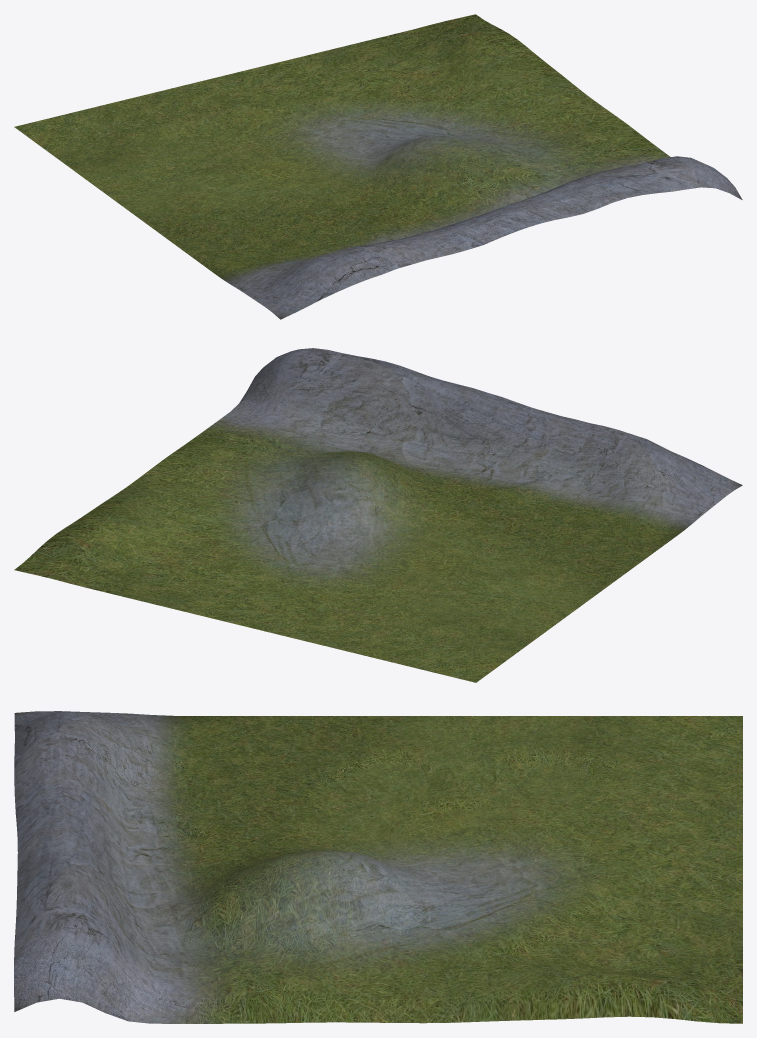
File: campo.dae
3 renders of one model, top to bottom at view 1: azimuth 30°, elevation 25°; view 2: azimuth 150°, elevation 25°; view 3: azimuth 270°, elevation 25°, orthographic. The views are drawn at different scales.
Visible parts, largest first — view 1: Plane; view 2: Plane; view 3: Plane.
Boxes of the visible parts, x1,y1,x2,y2 form: Plane: (14,14,742,319); Plane: (14,348,742,682); Plane: (14,711,742,1023).
Size of the model in its own units: 9.29 by 9.27 by 0.9676.
Materials: 1 (1 with a texture image).
